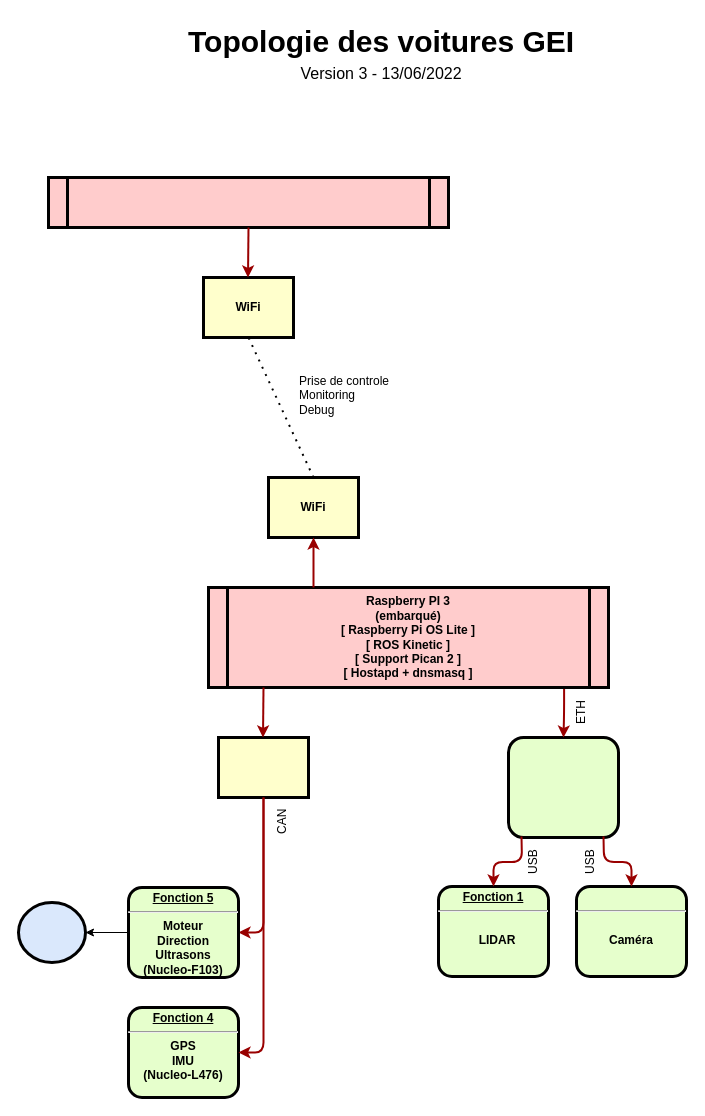
Some shapes in this 705 by 1116 pixel diagram are drawn without their labels. Each missing label, with the centre of its shape:
"Adaptateur CAN (Hat)" belongs at (x=263, y=767).
"Boutons G/D" belongs at (x=51, y=932).
"Fonction 2 JETSON [ Ubuntu 18.04] [ ROS Melodic] [ SDK RPLidar ]" belongs at (x=563, y=787).
"PC etudiant (sol)" belongs at (x=248, y=202).
